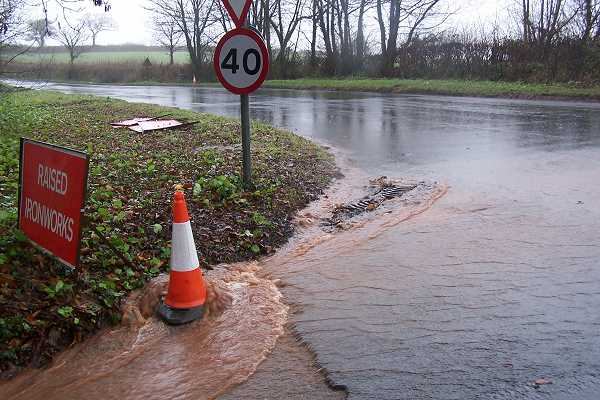cone: (136, 189, 232, 329)
